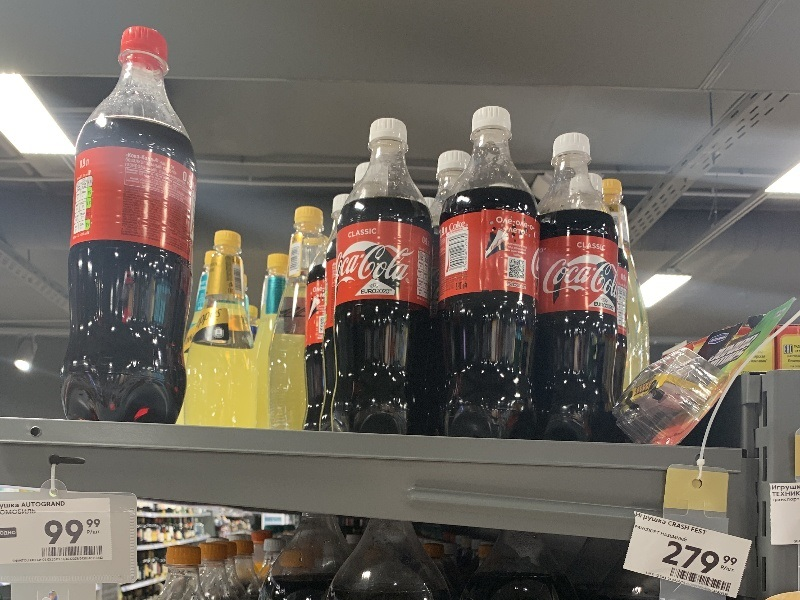lemonade: (38, 22, 207, 437), (330, 111, 456, 441), (434, 103, 554, 443), (535, 130, 643, 457)
